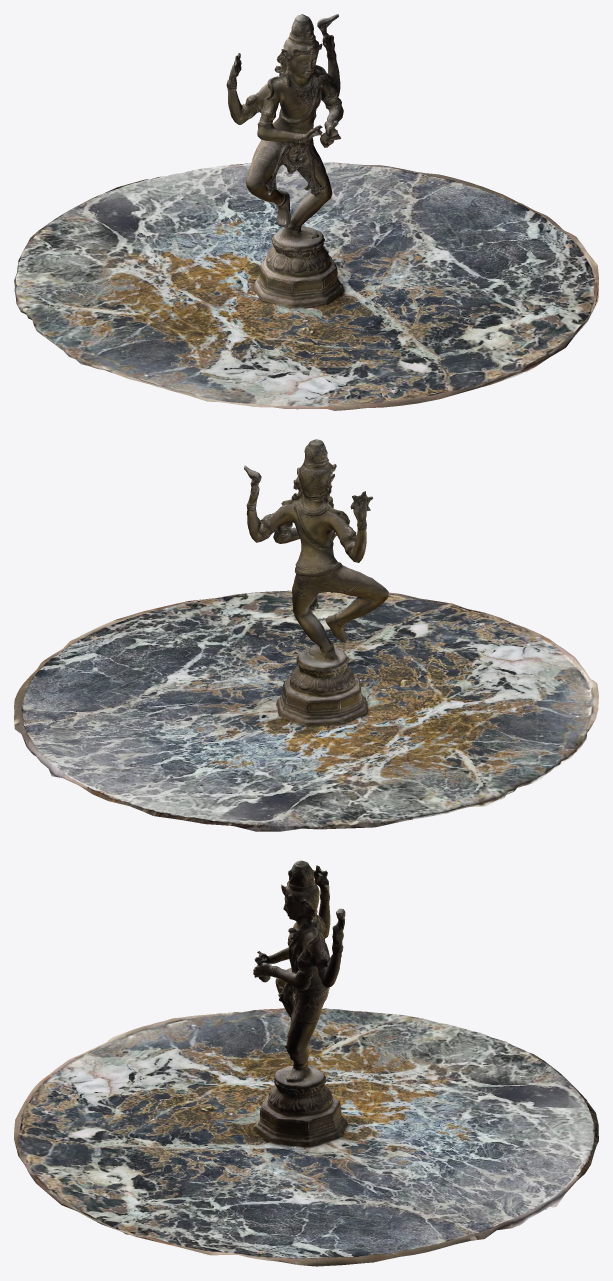
Rendered from god_vishnu-transformed.glb.
The picture shows the model from 3 angles, top to bottom: view 1: azimuth 30°, elevation 25°; view 2: azimuth 150°, elevation 25°; view 3: azimuth 270°, elevation 25°; orthographic projection.
Parts seen in each view (by area): view 1: Object_4; view 2: Object_4; view 3: Object_4.
Part boxes in pixels (bbox=[...]): Object_4: bbox=[14, 14, 598, 410]; Object_4: bbox=[14, 439, 598, 831]; Object_4: bbox=[14, 860, 598, 1266].
Size of the model in its own units: 3.59 by 1.89 by 3.6.
1 material, 1 textured.
